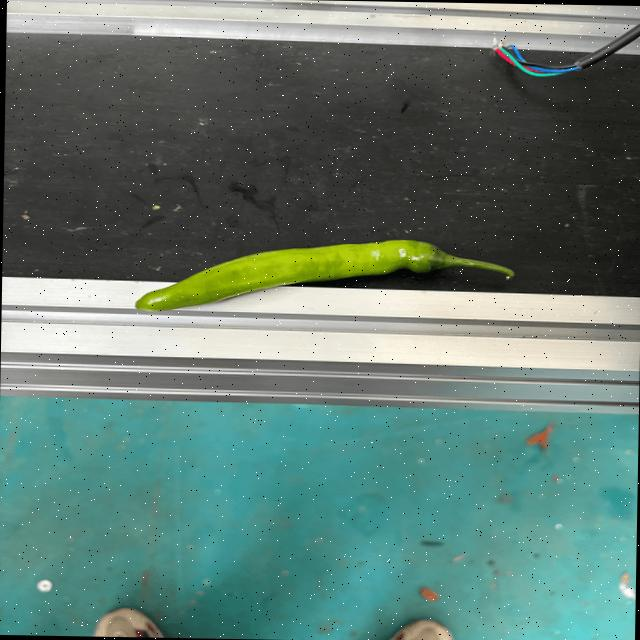chili: (129, 237, 447, 316)
